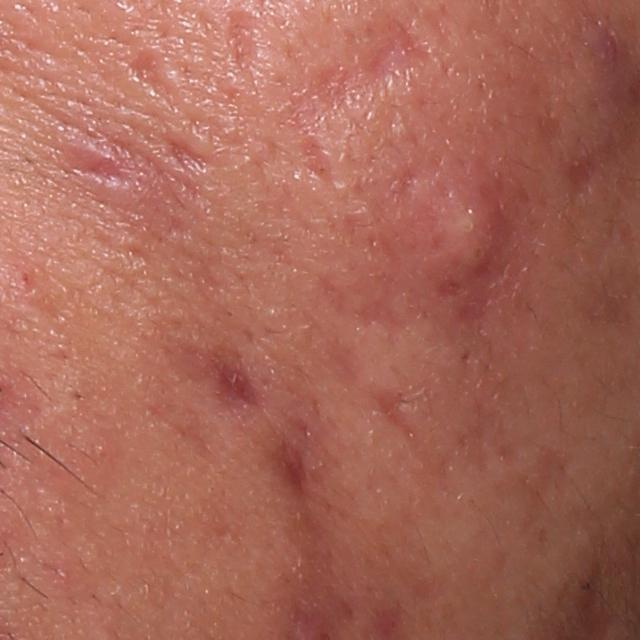atrophic_scar: (277, 7, 434, 204), (366, 221, 491, 331), (180, 324, 264, 406), (254, 414, 324, 512), (359, 374, 428, 453), (133, 126, 218, 184), (122, 48, 188, 117), (57, 151, 133, 191), (223, 12, 252, 82)
